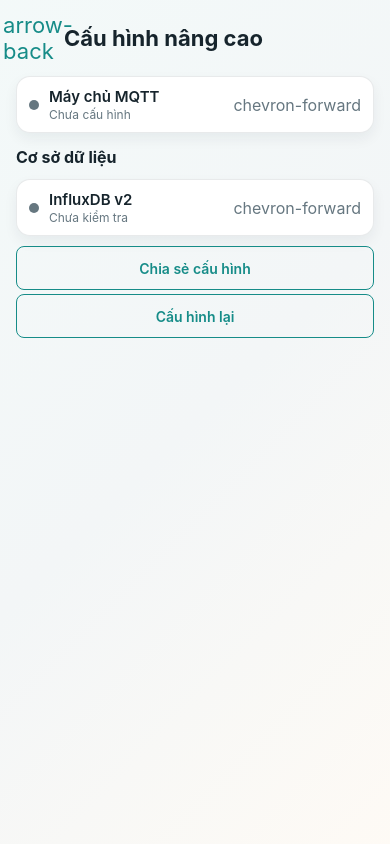
Test: AdvancedSettingsScreen (composition) › the unconfigured MQTT detail `Cấu hình` action returns to setup step 1
Click the button with test id "advanced-mqtt-status-body" at (104, 96), box x1=16 y1=76 x2=374 y2=133
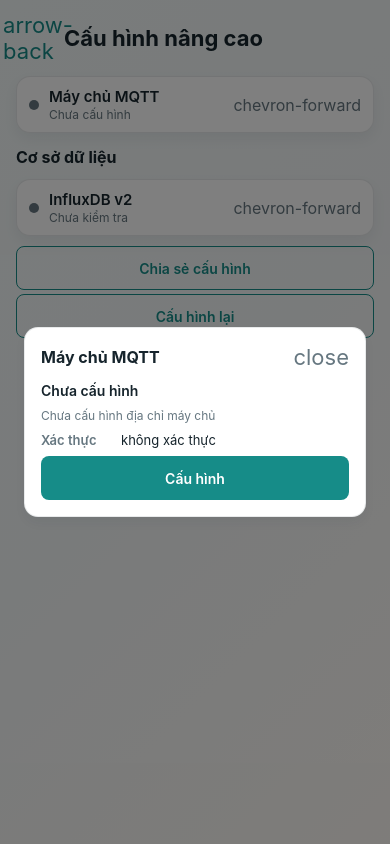
Click the button with test id "advanced-mqtt-configure" at (195, 478), box x1=41 y1=456 x2=349 y2=500
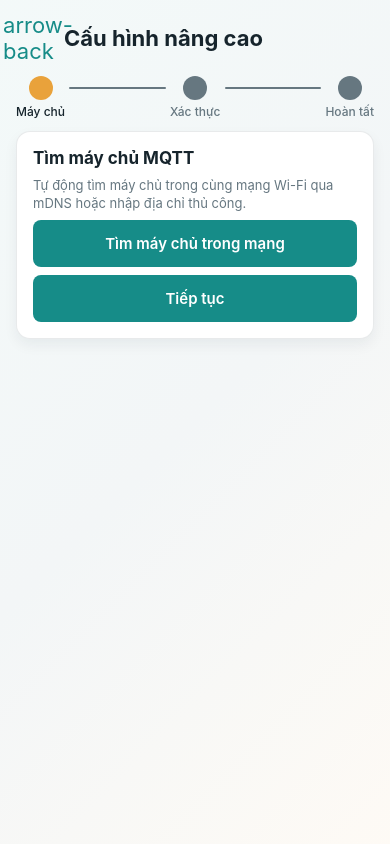
Now the element with test id "advanced-step-server" is shown, box x1=16 y1=131 x2=374 y2=339
Now no elements with test id "advanced-mqtt-status" are shown
Now the element with test id "config-stepper" is shown, box x1=16 y1=76 x2=374 y2=119
